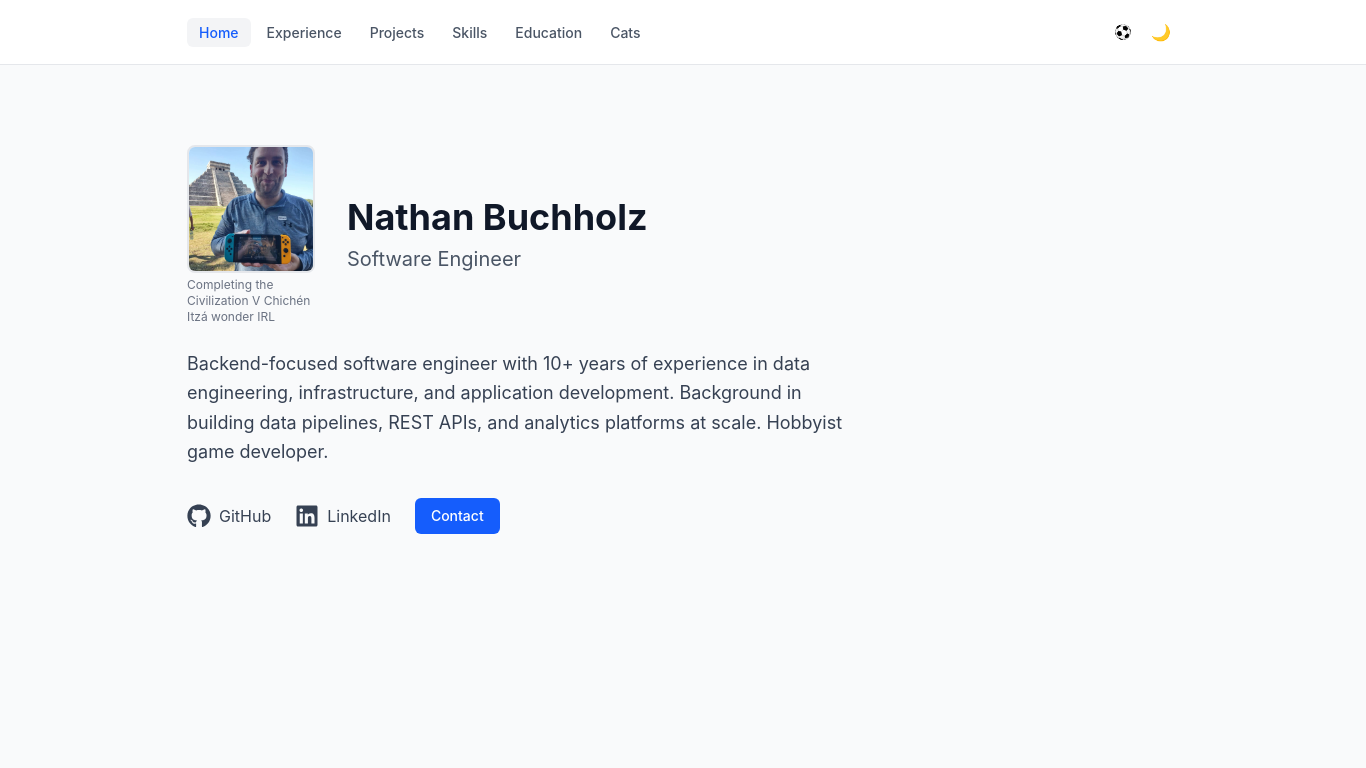
Scenario: Contact Modal › opens modal when Contact button is clicked
Click the button "Contact": {"x": 458, "y": 516} [415,498,500,534]
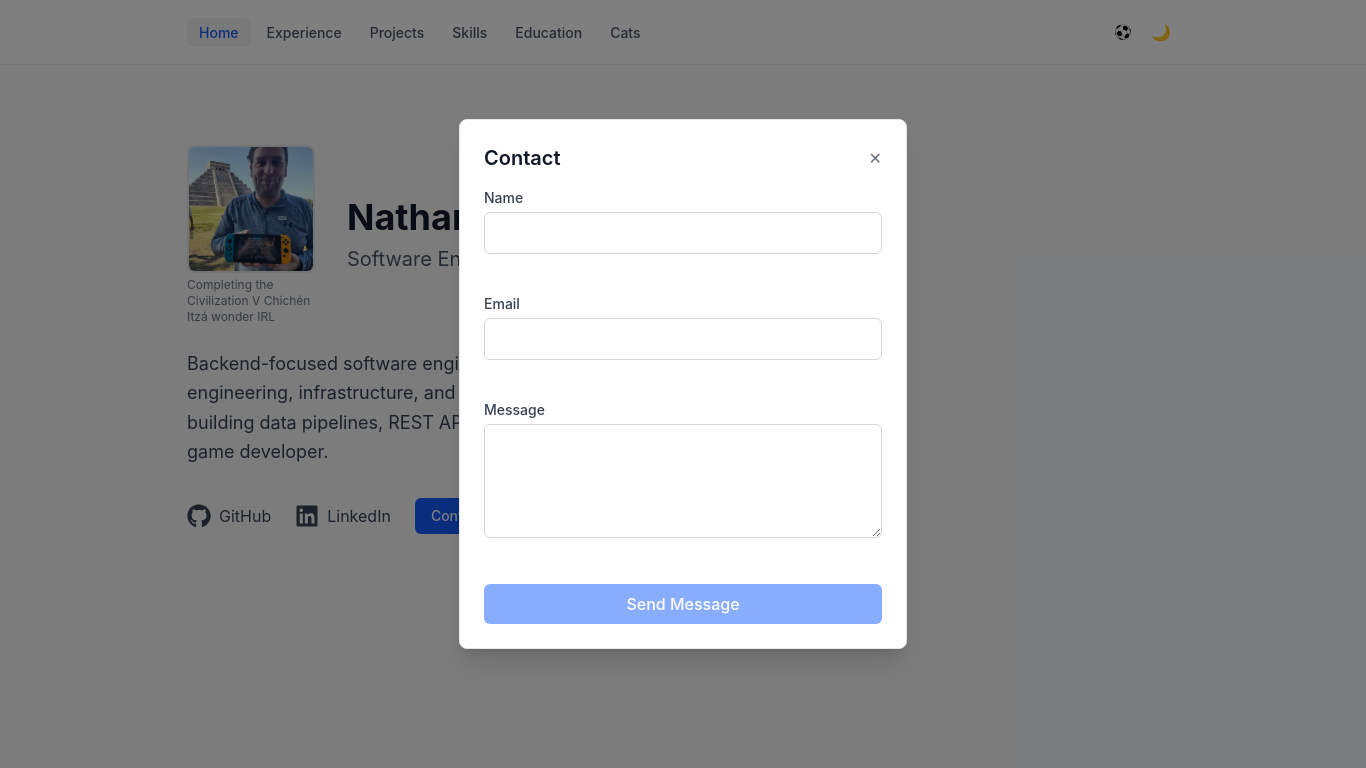
Expected: the dialog is shown, [459,119,907,649]
Expected: the heading "Contact" is shown, [484,144,560,172]
